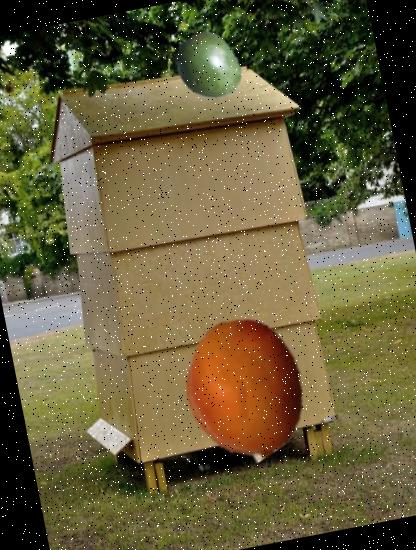Apricot: (164, 307, 328, 470)
Mango: (164, 22, 250, 108)
